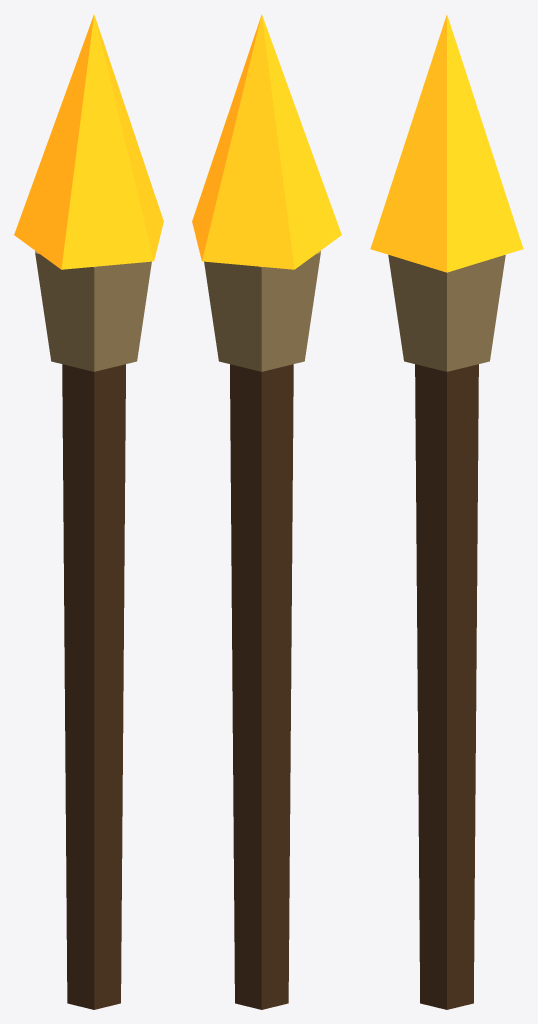
Rendered from torch.glb.
3 views of the same model, side by side, from view 1: azimuth 30°, elevation 25°; view 2: azimuth 150°, elevation 25°; view 3: azimuth 270°, elevation 25° (orthographic).
Parts seen in each view (by area): view 1: wood_dark, Flame_fire, rope; view 2: wood_dark, Flame_fire, rope; view 3: wood_dark, Flame_fire, rope.
Part boxes in pixels (box(x1,y1,x2,y2)): wood_dark: box(62, 364, 125, 1009); Flame_fire: box(14, 14, 163, 269); rope: box(35, 250, 151, 371); wood_dark: box(230, 364, 293, 1009); Flame_fire: box(192, 14, 341, 269); rope: box(204, 250, 320, 371); wood_dark: box(415, 364, 478, 1009); Flame_fire: box(370, 15, 523, 272); rope: box(388, 255, 505, 371).
Bounding box in the file's own units: 0.24 × 1.75 × 0.2473.
